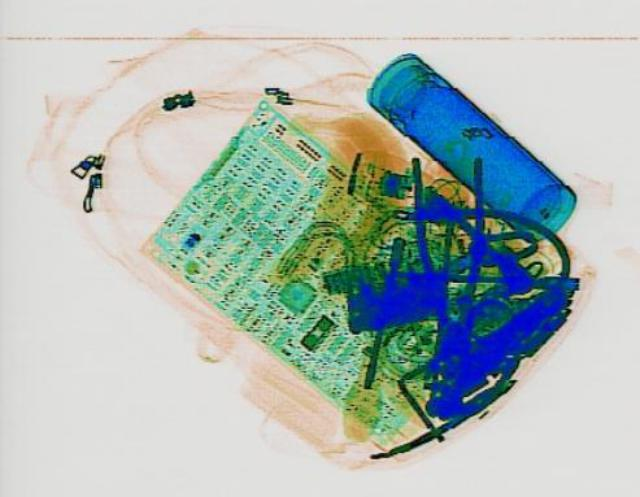Pliers: (410, 154, 484, 351)
